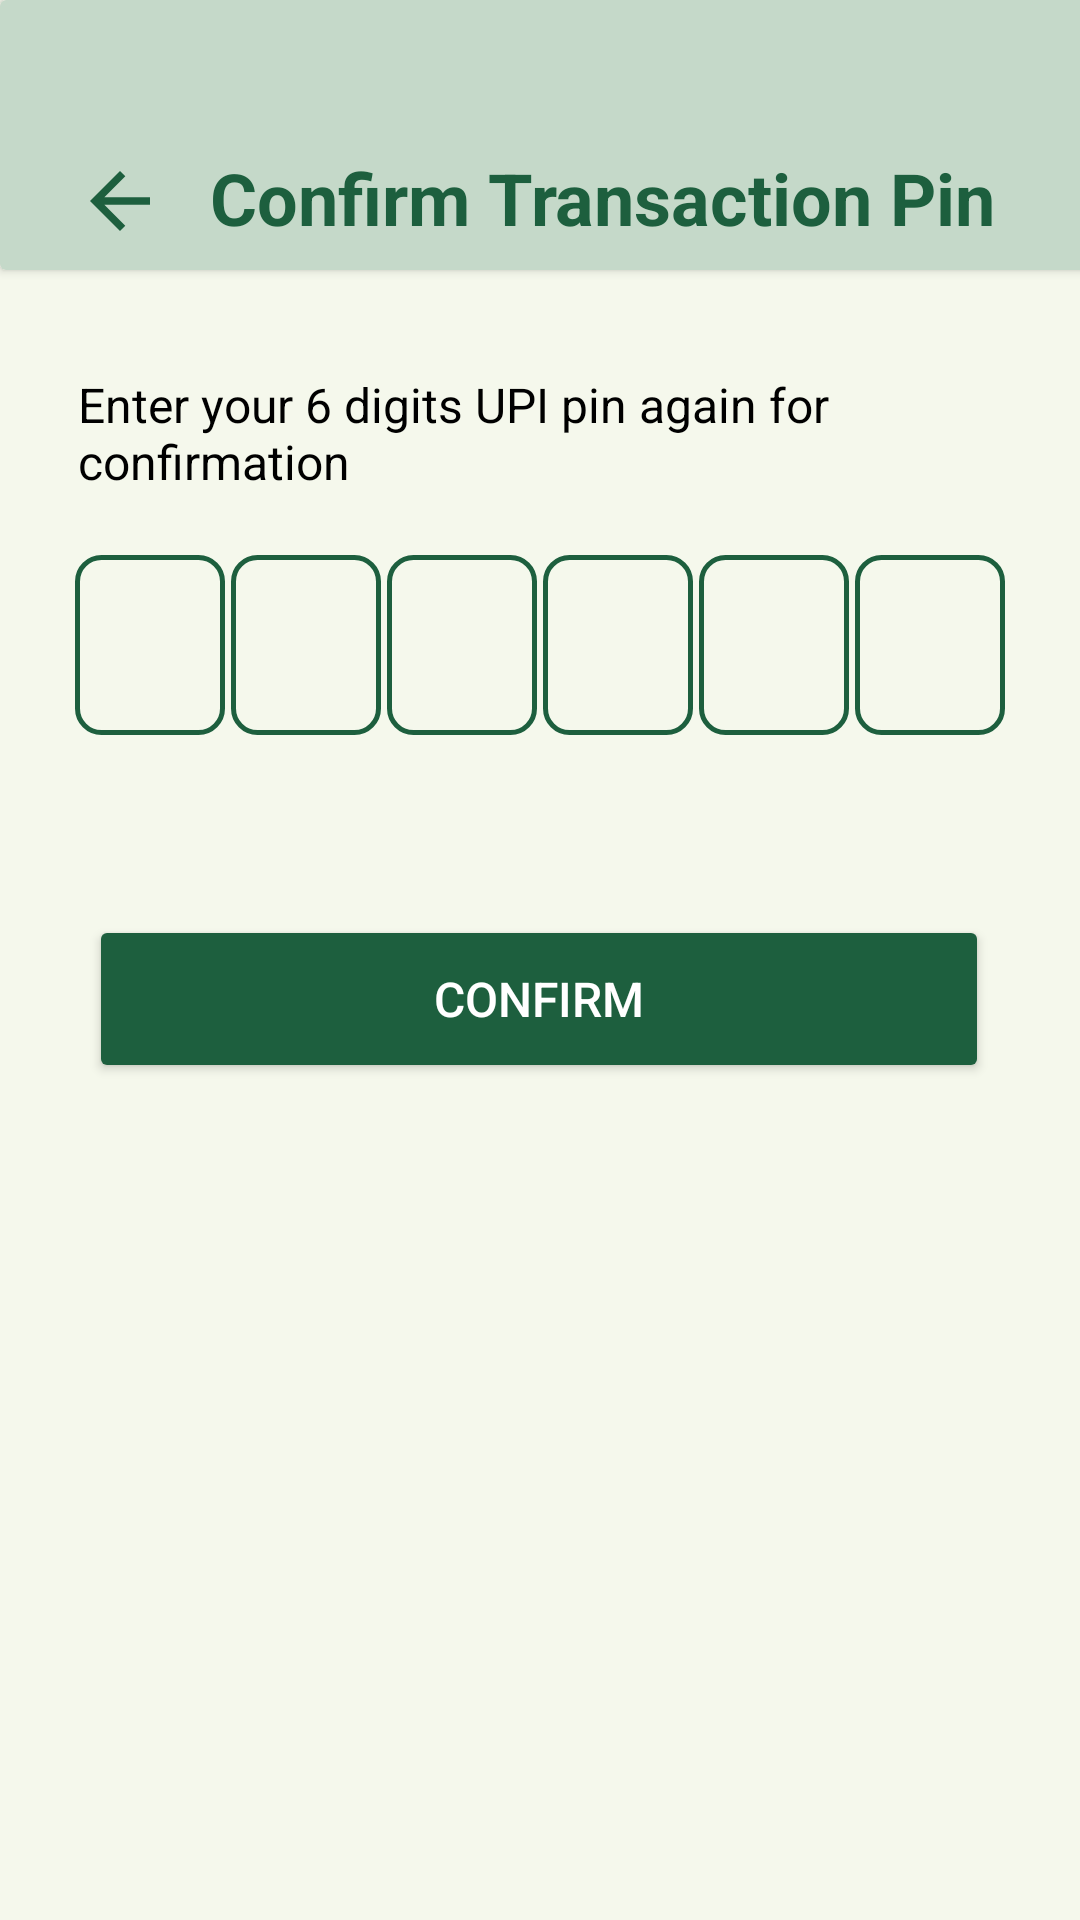

Where to tap for icons on this 1080x1920 app screen, as [x,y]:
arrow back: [120,201]
